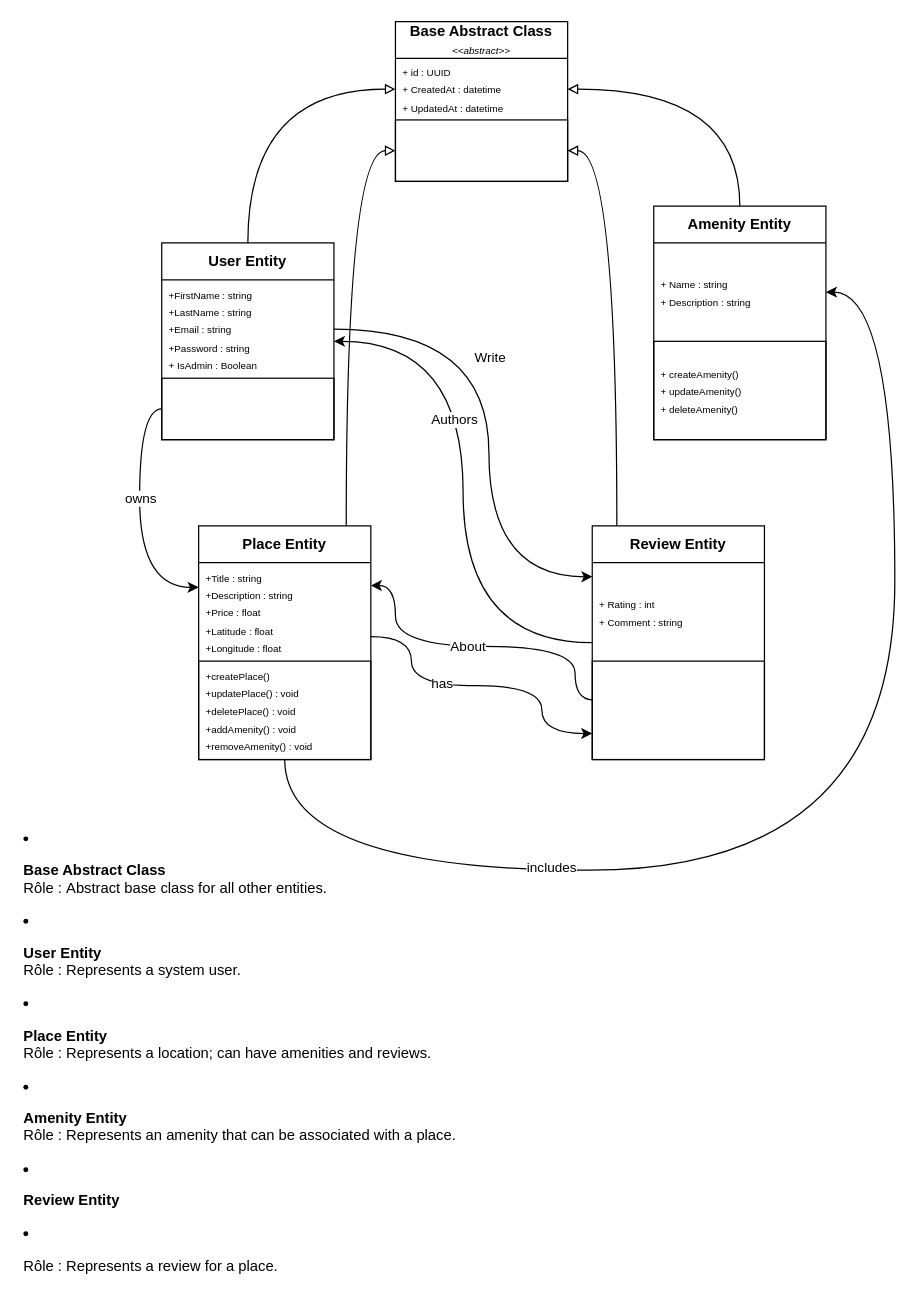
This 916x1311 diagram has some shape labels left out. The centre of each missing label's shape, as x and y in pixels:
"+ createReview() + updateReview() + deleteReview()" goes at (x=677, y=710).
"+register() : void +updateProfile(data) : void +deleteUser() : void" goes at (x=247, y=408).
"+save() : void +update() : void +delete() : void" goes at (x=481, y=150).
